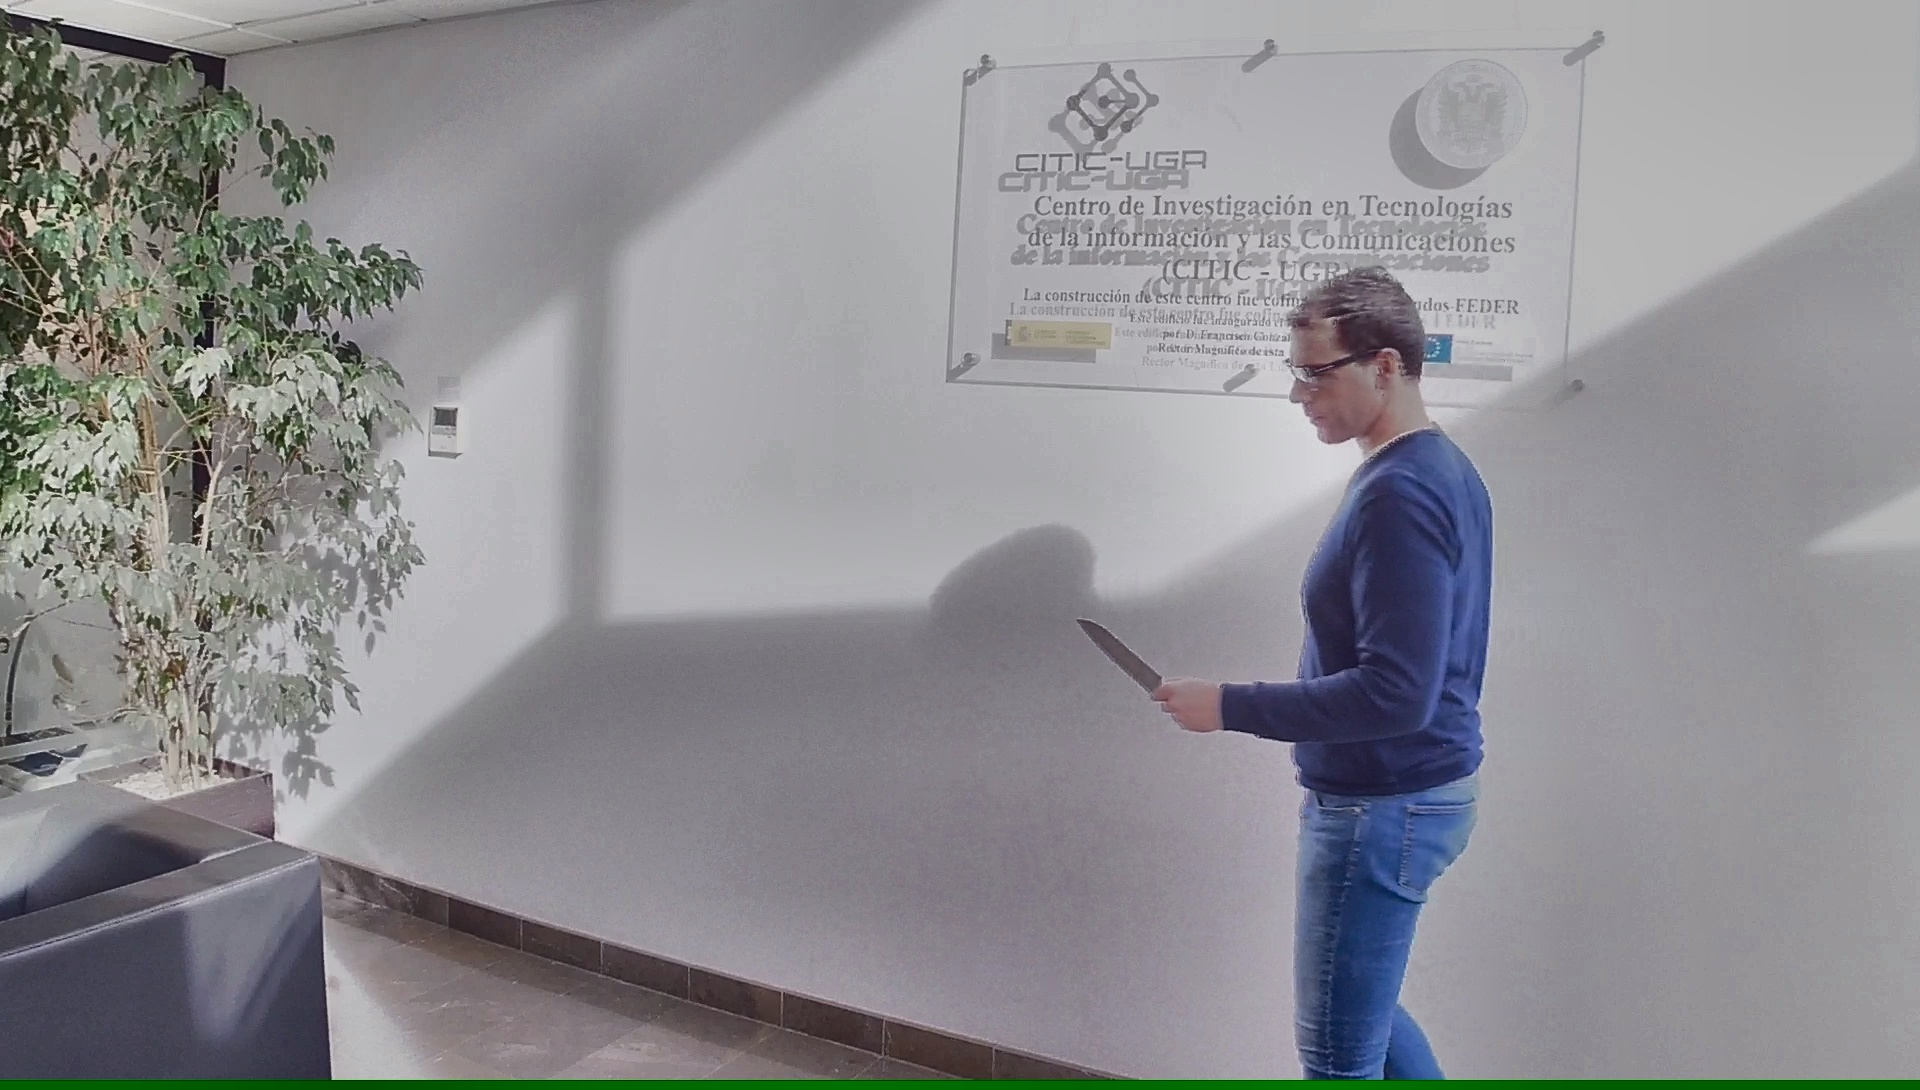knife: (1069, 608, 1192, 726)
